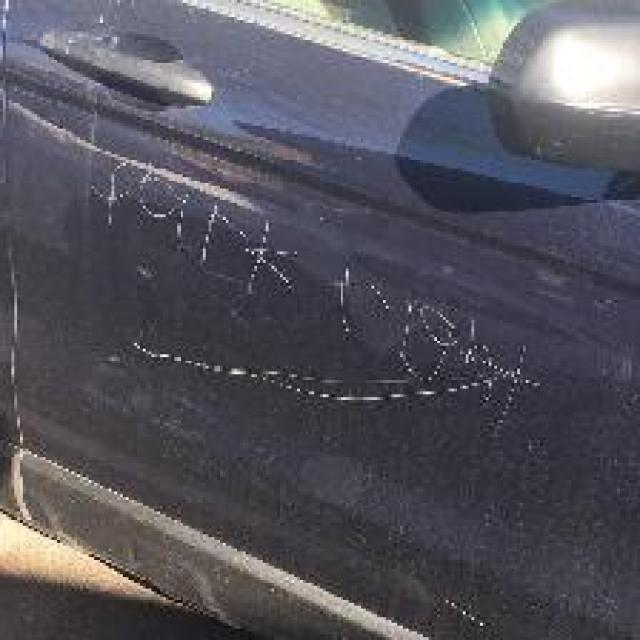damaged: (82, 146, 554, 437)
